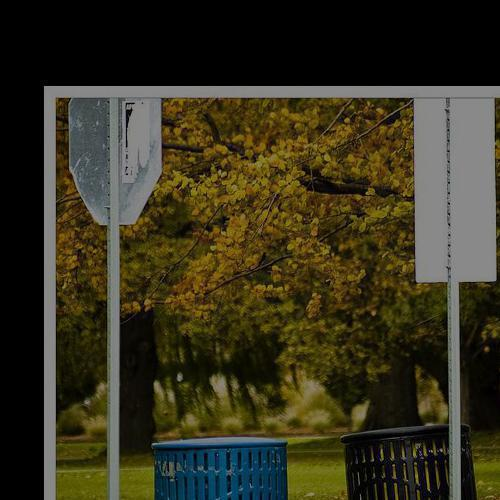Bote de Basura: (149, 427, 291, 500), (346, 428, 486, 500)
